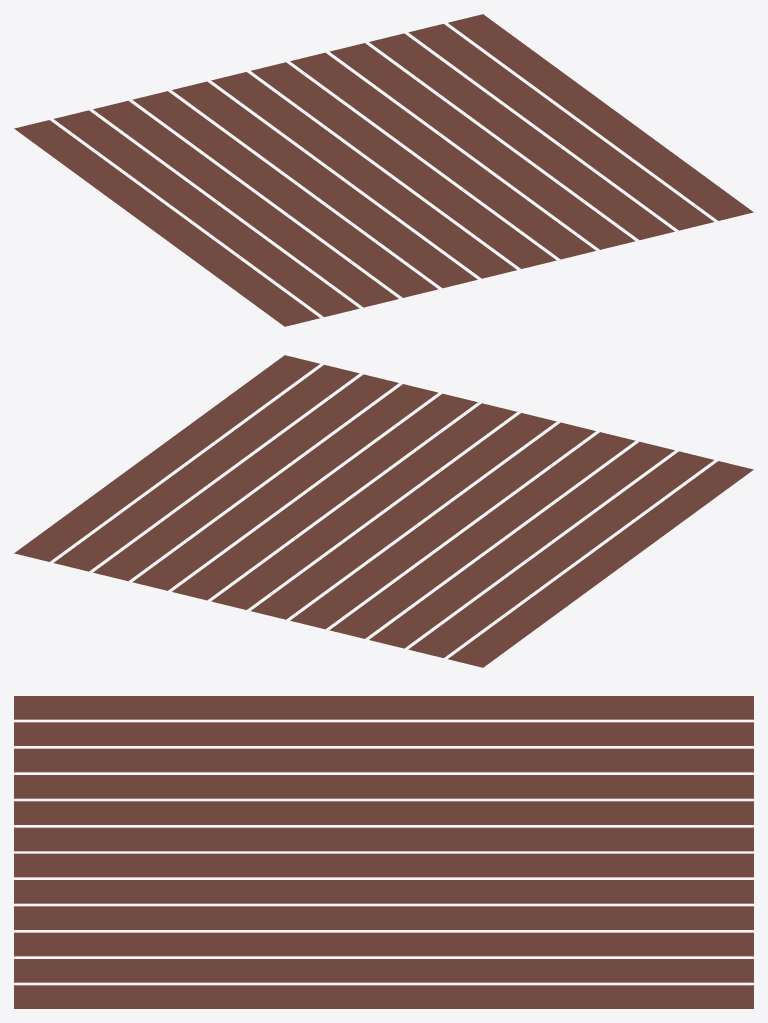
The model's file is wall_007.glb.
3 renders of one model, top to bottom at view 1: azimuth 30°, elevation 25°; view 2: azimuth 150°, elevation 25°; view 3: azimuth 270°, elevation 25°, orthographic. The views are drawn at different scales.
Parts seen in each view (by area): view 1: wall_007; view 2: wall_007; view 3: wall_007.
Part boxes in pixels (left/top/right/bottom): wall_007: left=14, top=14, right=753, bottom=326; wall_007: left=14, top=355, right=753, bottom=667; wall_007: left=14, top=696, right=753, bottom=1008.
Bounding box in the file's own units: 4 × 0 × 4.
Materials: 1 (1 with a texture image).
